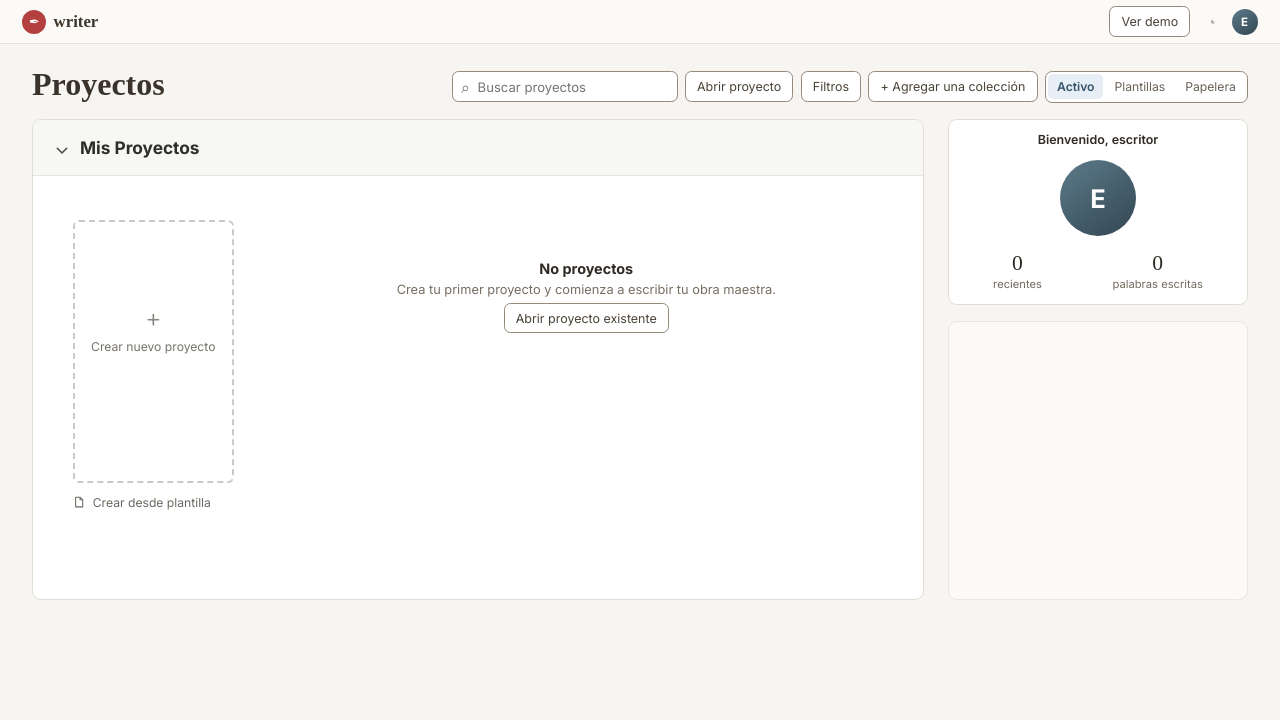
Test: autosave de la interfaz › agrupa las escenas por libro y capítulo sin fundir las categorías
The image size is (1280, 720).
Click the button "Ver demo".
click(1150, 22)  # box [1109,6,1190,37]
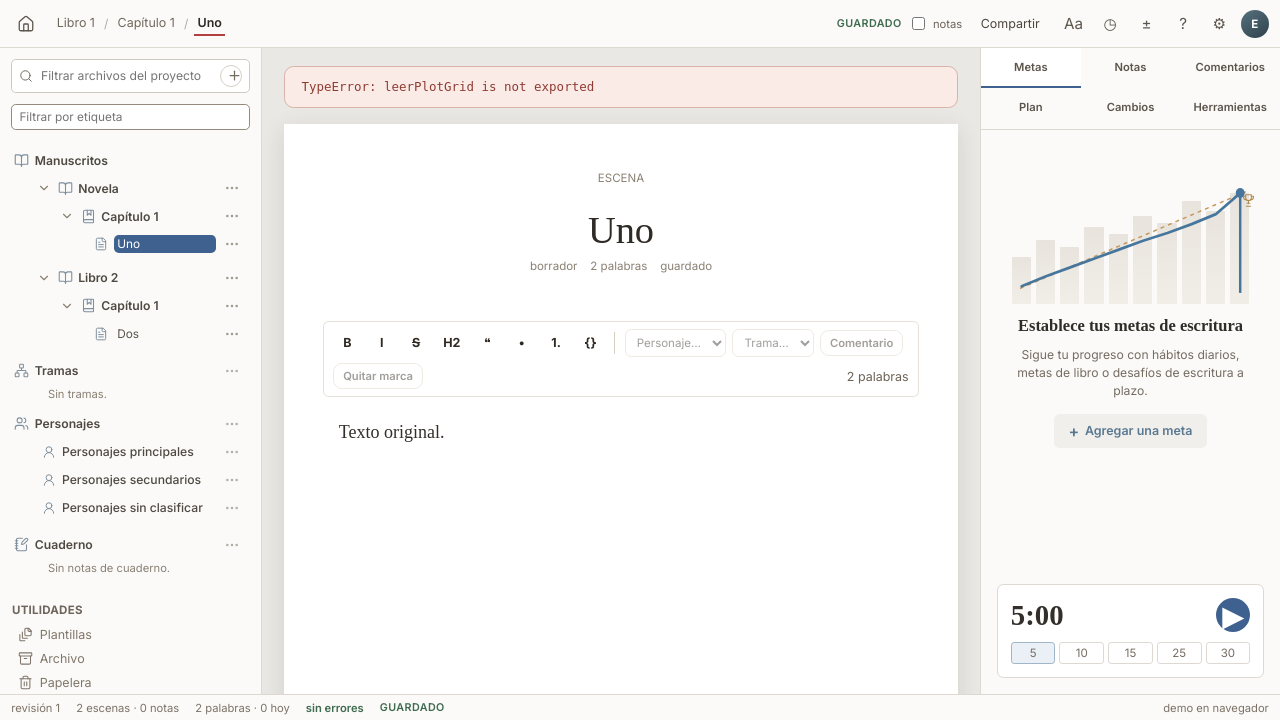
Check: the button "Novela" is shown, box [78,179,216,198]
Check: the button "Libro 2" is shown, box [78,268,216,287]
